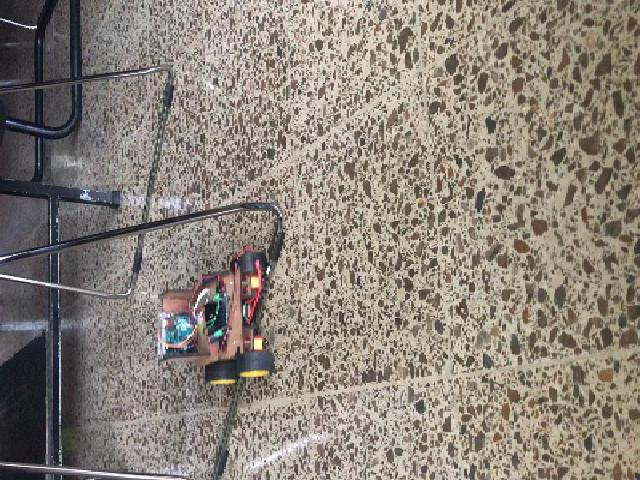Robot: (158, 251, 272, 384)
